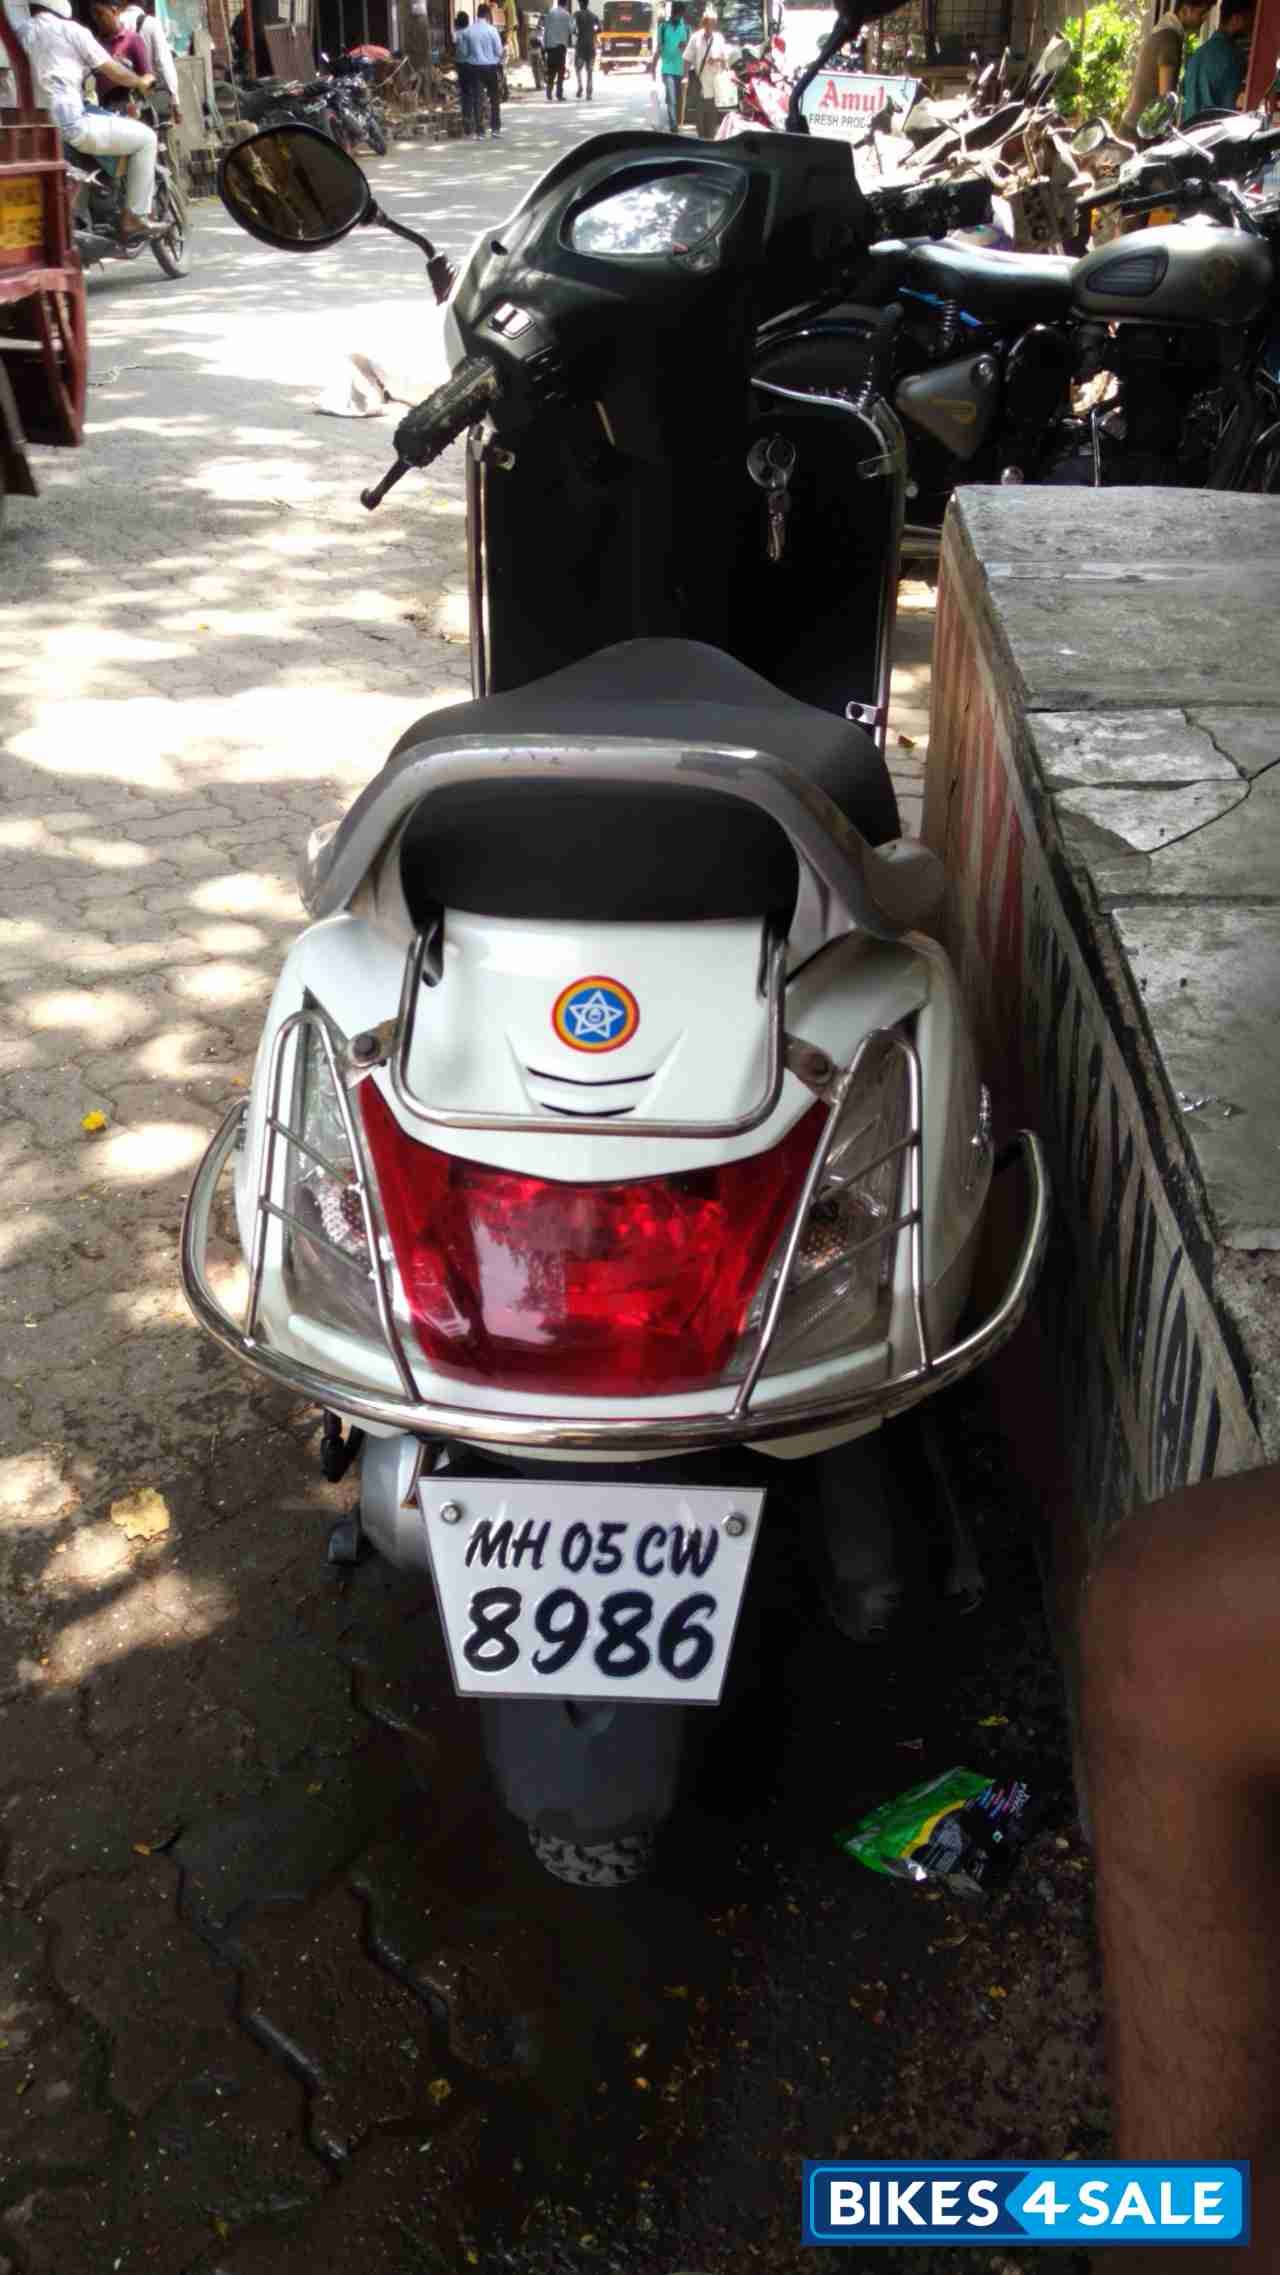doublelinenumberplate: (405, 1465, 767, 1703)
